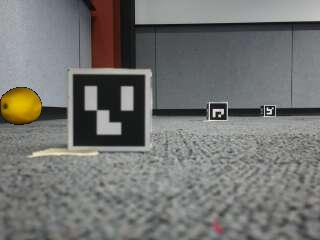lemon: (1, 87, 42, 124)
